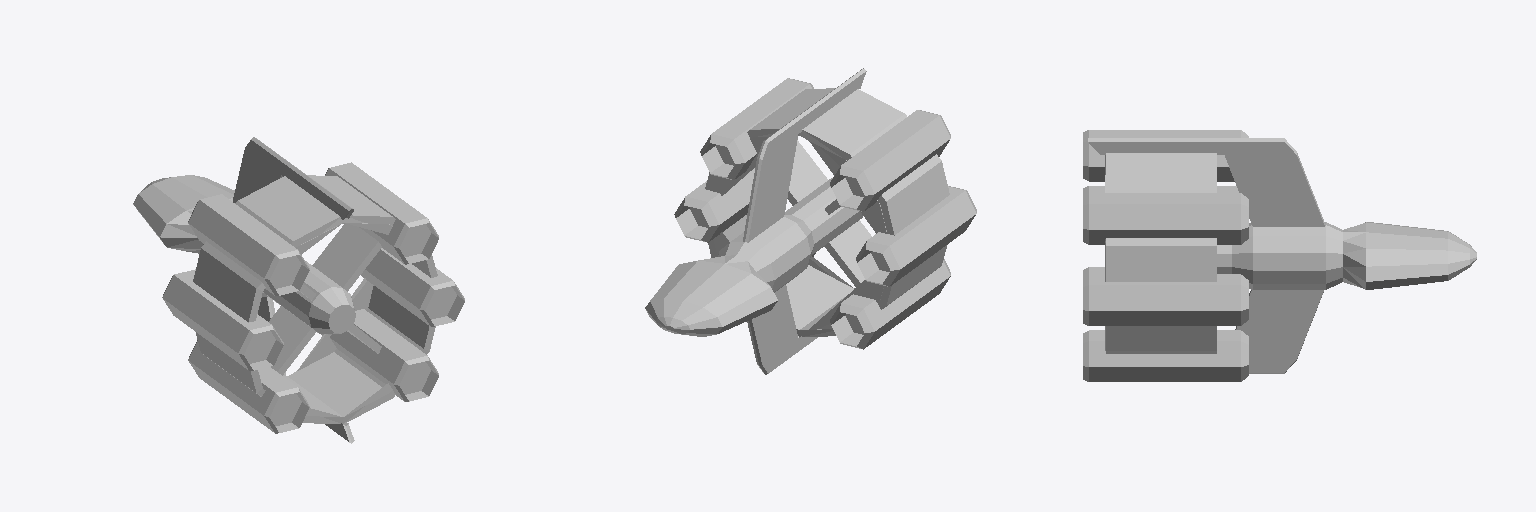
The model's file is scout.obj.
The picture shows the model from 3 angles: view 1: azimuth 30°, elevation 25°; view 2: azimuth 150°, elevation 25°; view 3: azimuth 270°, elevation 25°; orthographic projection.
Parts seen in each view (by area): view 1: Cube; view 2: Cube; view 3: Cube.
Part boxes in pixels (left/top/right/bottom): Cube: left=133, top=137, right=464, bottom=443; Cube: left=645, top=68, right=976, bottom=374; Cube: left=1083, top=130, right=1476, bottom=381.
Bounding box in the file's own units: 10.02 × 9.93 × 15.08.